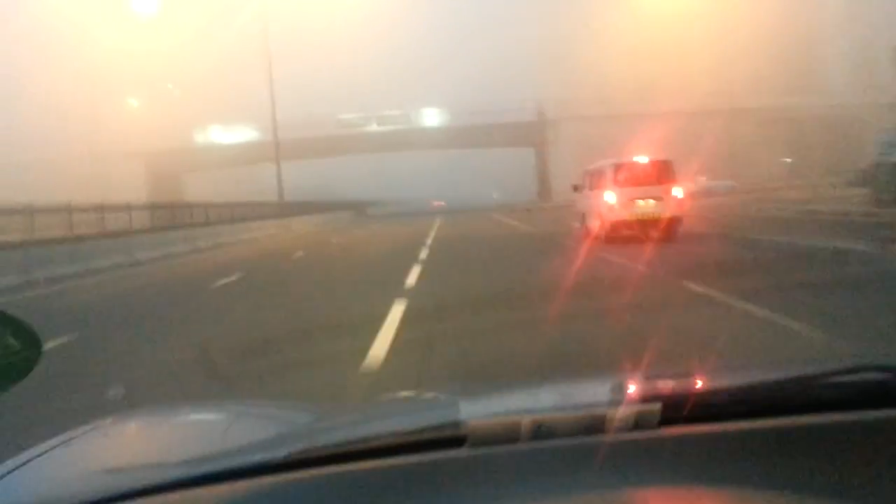car: (570, 156, 684, 245)
